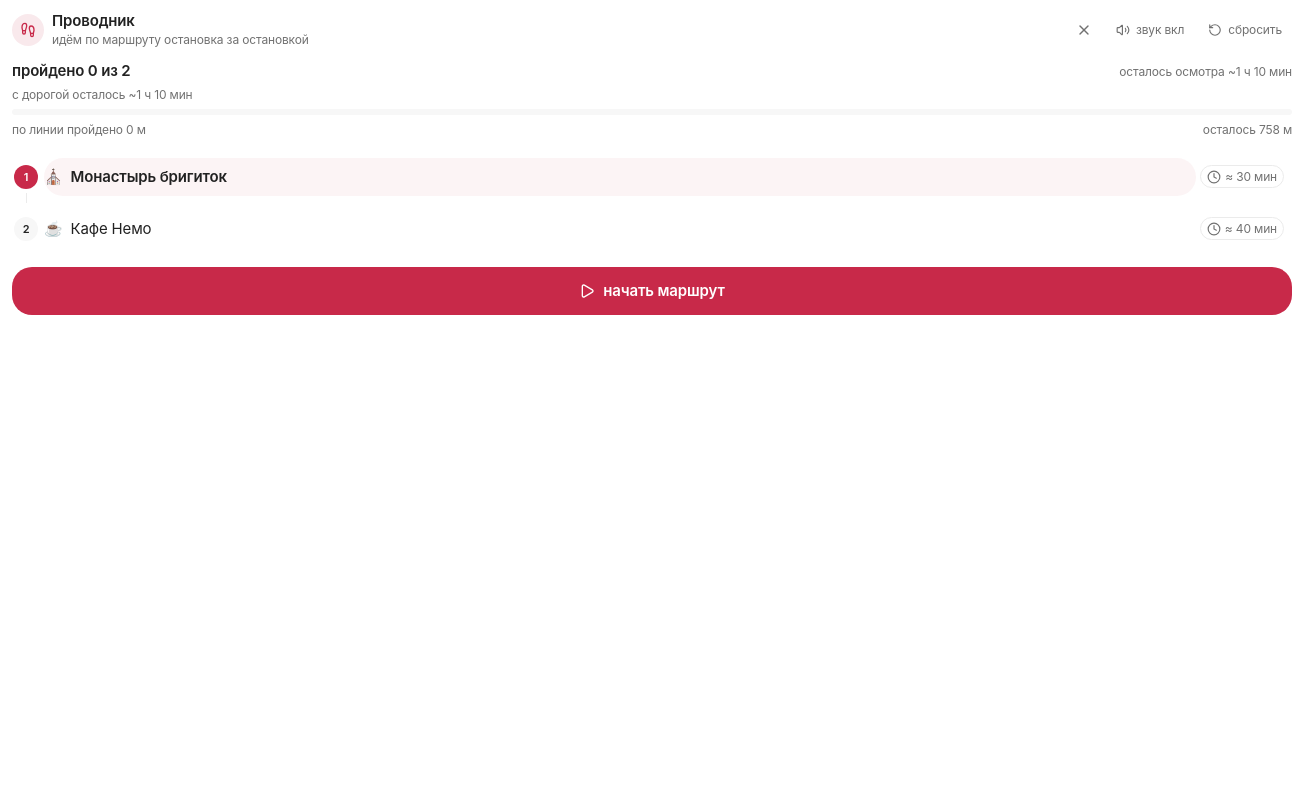
Test: GuidePanel · режим движения › suppresses the confident distance when the GPS is poor
Click the button with test id "guide-start": (652, 291) 12,267 -> 1292,315
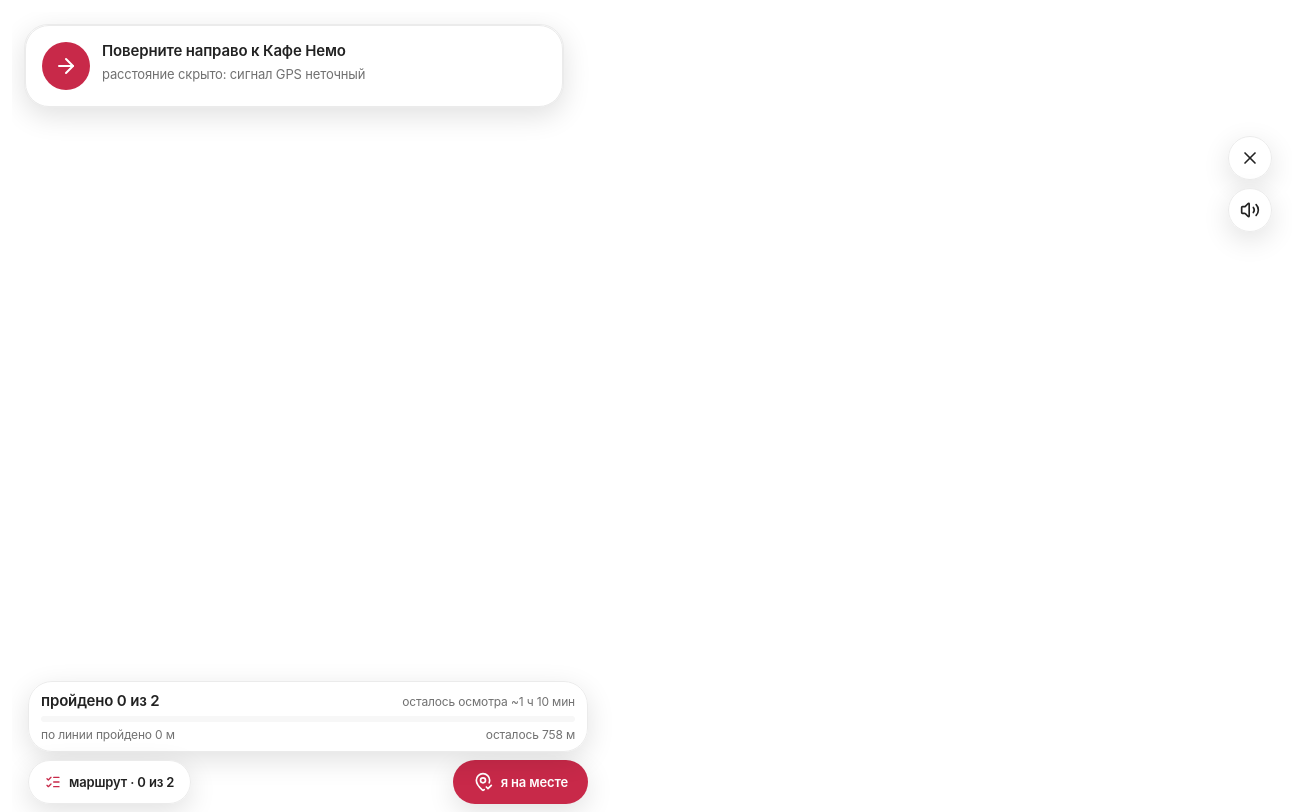
Expected: the text "пройдено 0 из 2" is shown, 41,690 -> 160,712
Expected: the text with test id "guide-maneuver-unprecise" shows "расстояние скрыто", 102,66 -> 365,82
